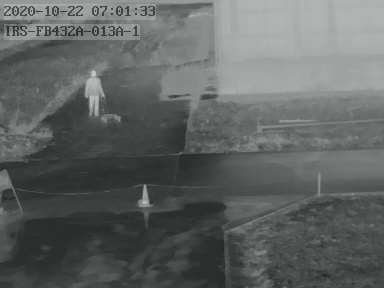person: (83, 70, 106, 115)
